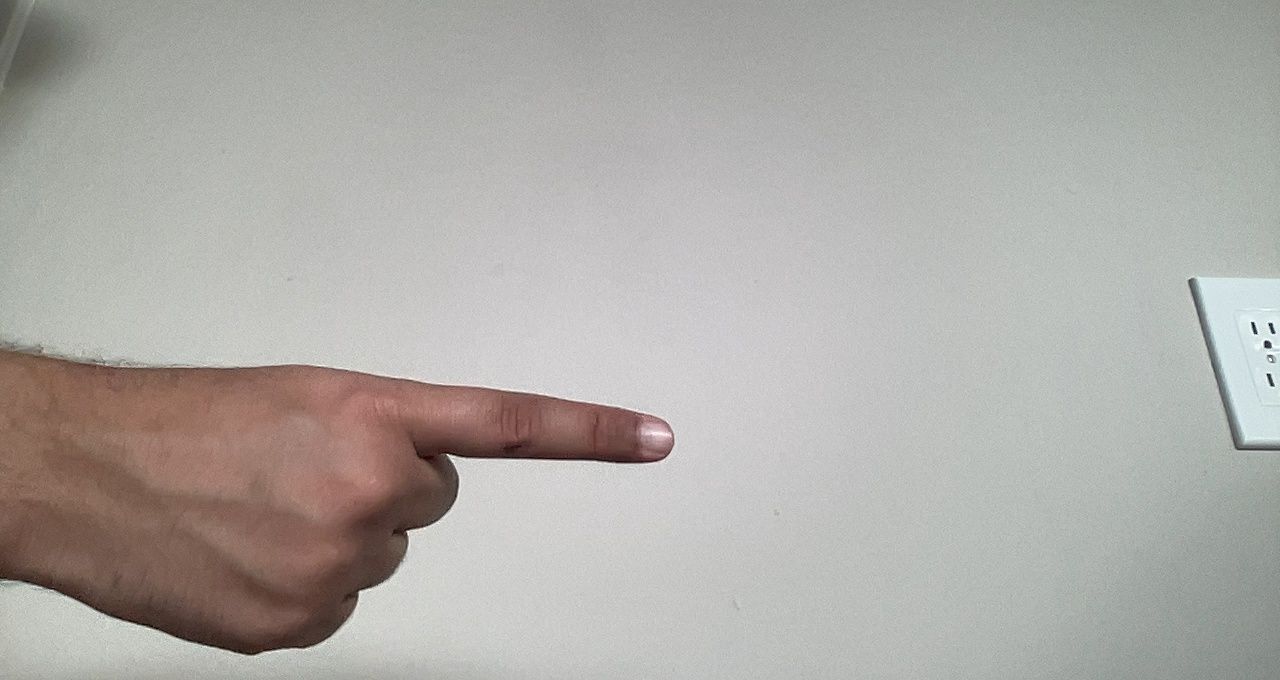fingerleft: (99, 356, 675, 661)
